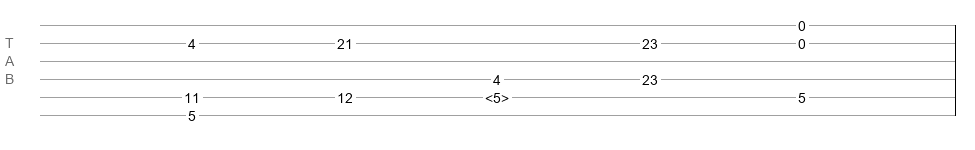0: (798, 36, 806, 46), (798, 18, 806, 28)
11: (184, 90, 200, 100)
12: (337, 90, 353, 100)
21: (337, 36, 353, 46)
23: (642, 36, 658, 46), (642, 72, 658, 82)
4: (188, 36, 196, 46), (493, 72, 501, 82)
5: (188, 108, 196, 118), (798, 90, 806, 100)
harmonic: (485, 90, 509, 100)
